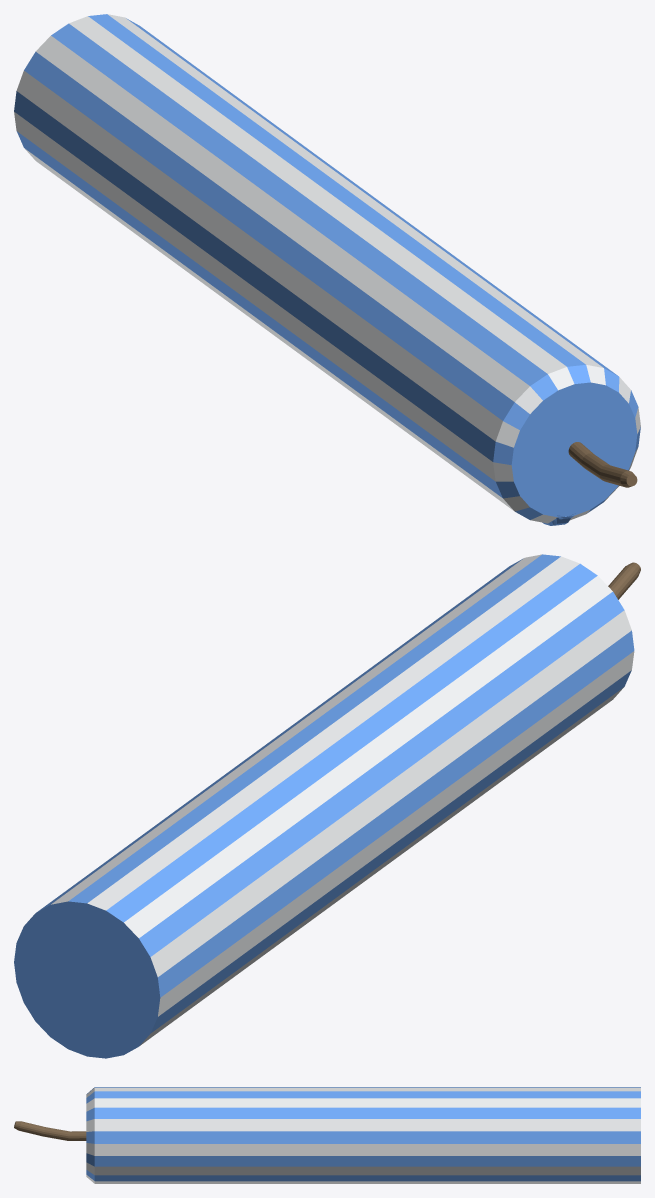
File: CANDLE.glb
The picture shows the model from 3 angles, top to bottom: view 1: azimuth 30°, elevation 25°; view 2: azimuth 150°, elevation 25°; view 3: azimuth 270°, elevation 25°; orthographic projection. The views are drawn at different scales.
Parts seen in each view (by area): view 1: _0; view 2: _0; view 3: _0.
Boxes of the visible parts, x1,y1,x2,y2 form: _0: (14, 14, 640, 525); _0: (14, 554, 640, 1058); _0: (14, 1087, 640, 1183).
Bounding box in the file's own units: 0.9004 × 0.9648 × 5.8.
